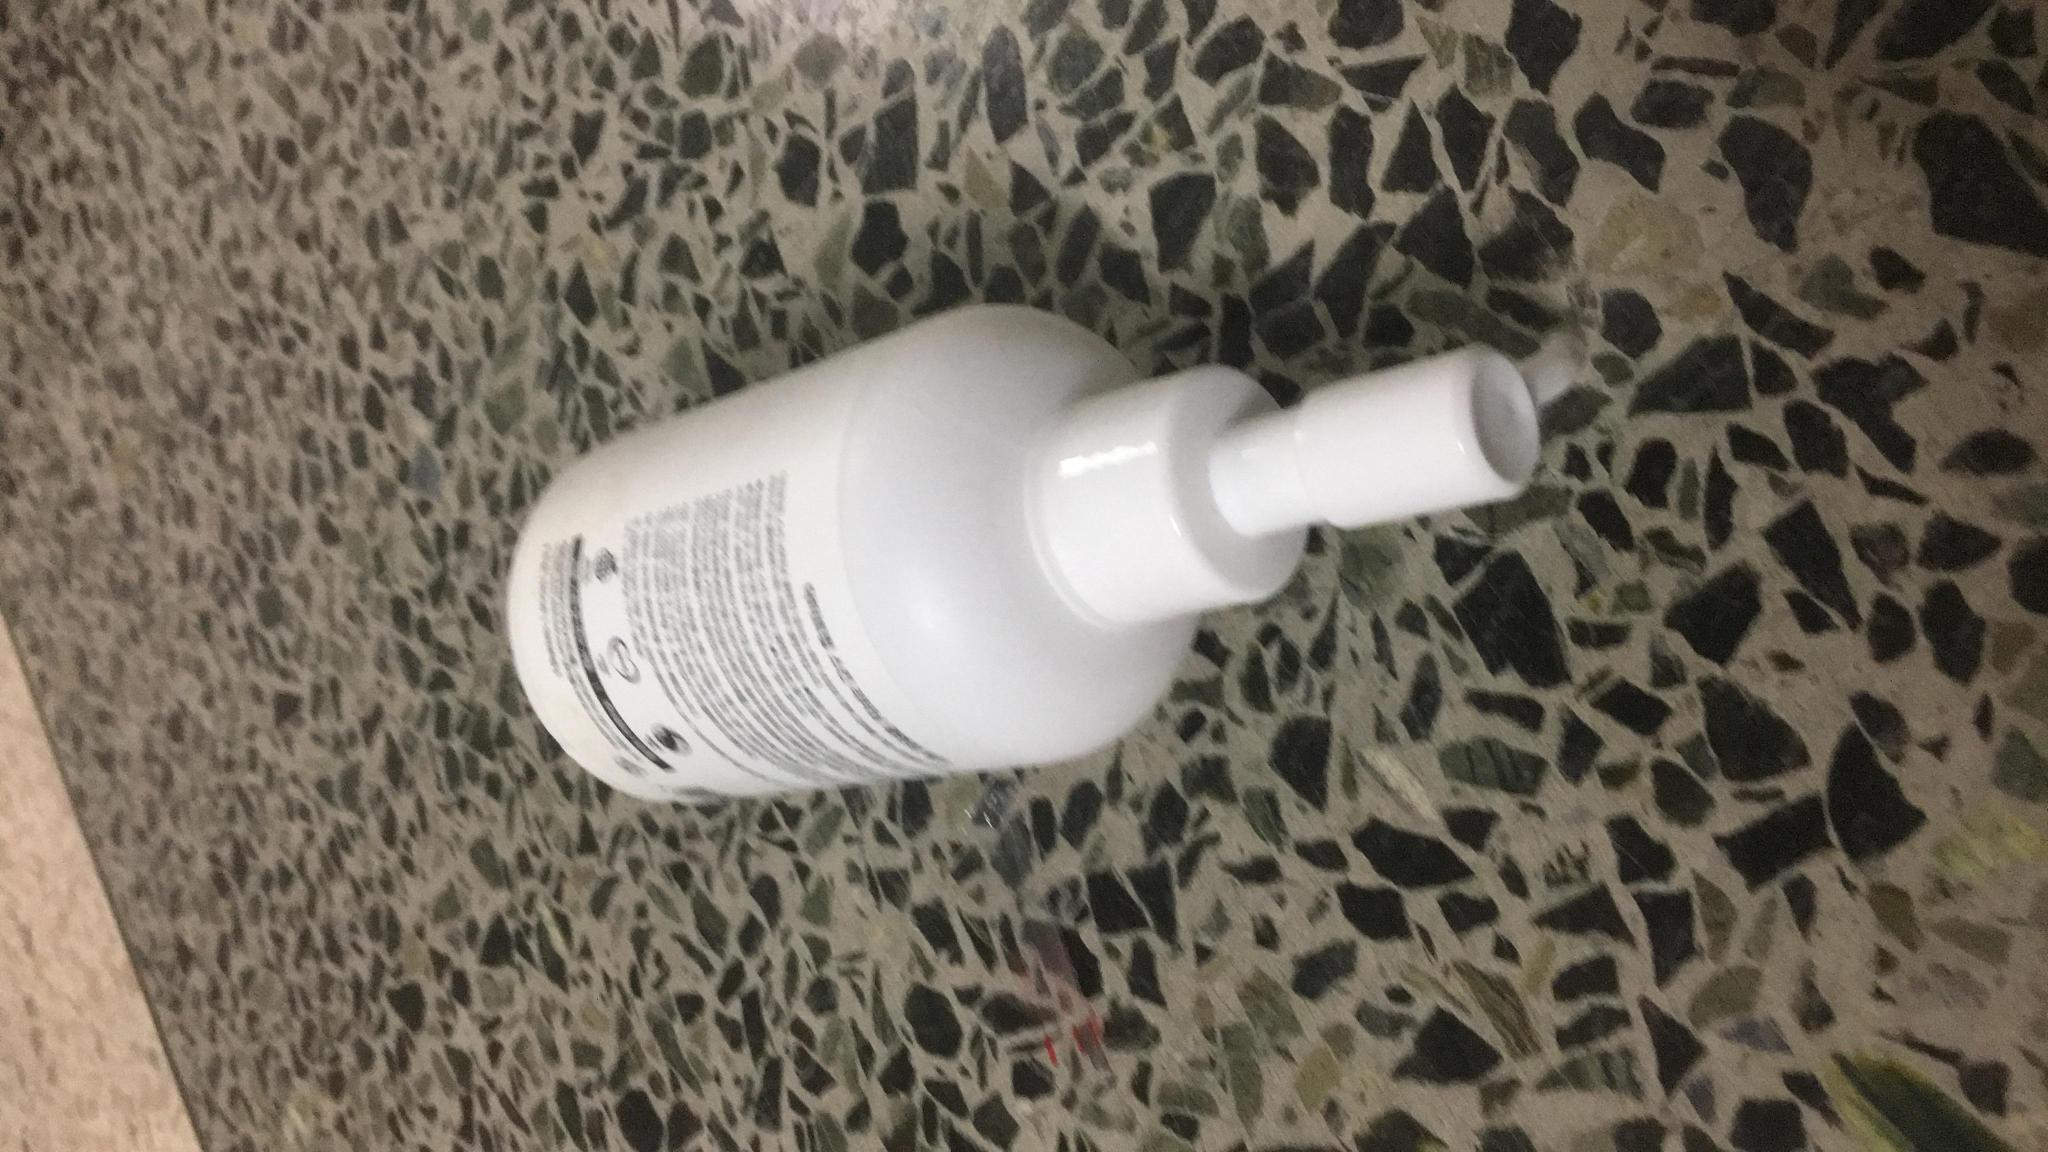bottle: (495, 294, 1625, 896)
